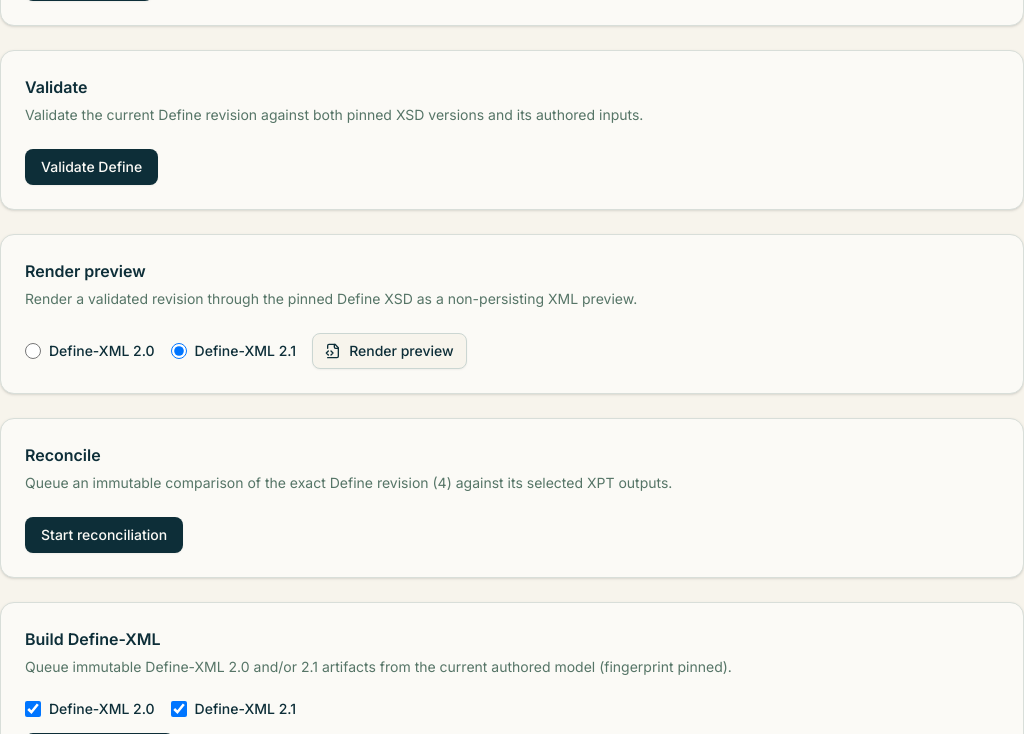
DefinePanel render preview (Req 18.5) › requests version=2.1 through the download bypass and shows the XML preview
(page scrolled)
What coordinates should you click on to do the following:
click the button "Render preview"
I would click on:
 (389, 351)
Its box is [312,333,467,369].
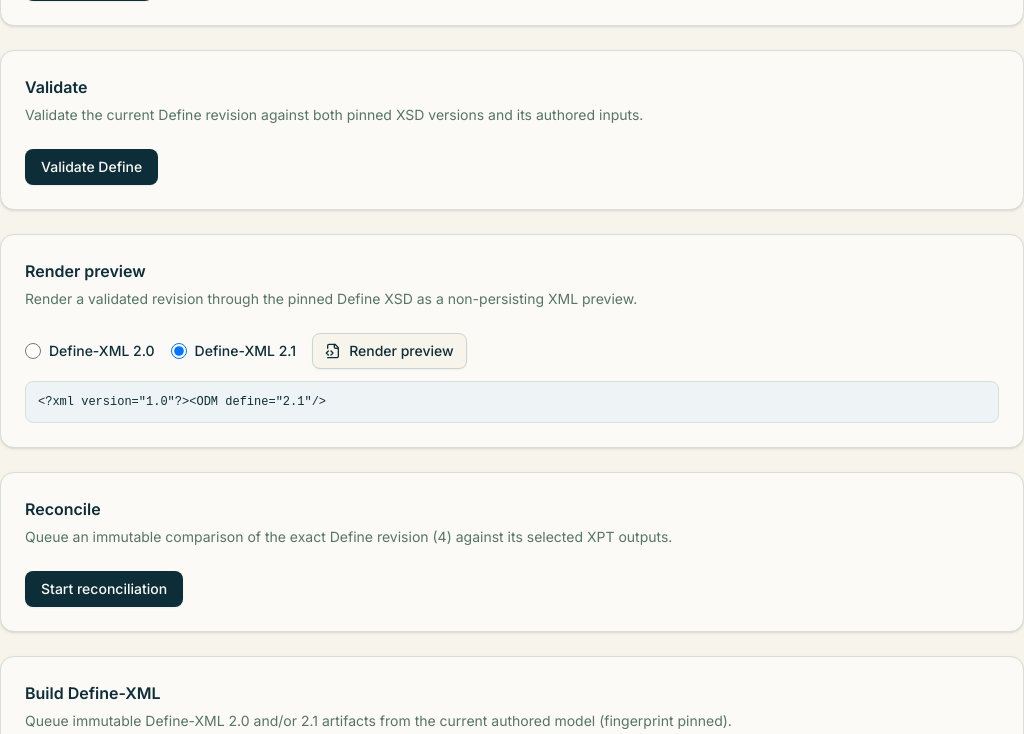
Check: the element named "define-xml 2.1 preview" shows "define=\"2.1\"", box [38,395,326,409]
